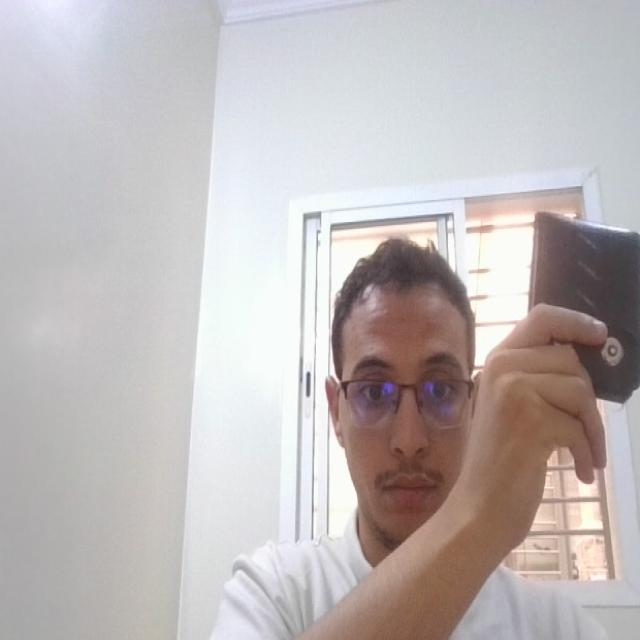wallet: (523, 201, 640, 418)
